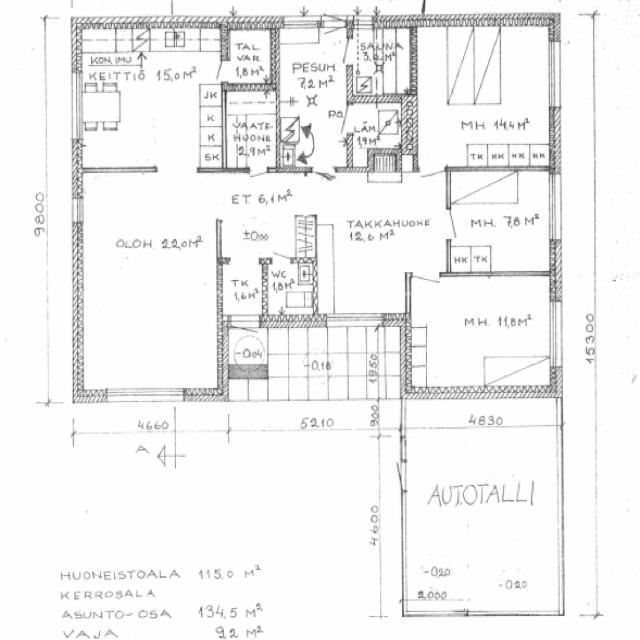door: (231, 314, 260, 361), (322, 15, 346, 57), (375, 461, 406, 490), (414, 272, 439, 307), (447, 210, 476, 240), (322, 106, 353, 134), (420, 168, 444, 202), (324, 40, 353, 65), (312, 168, 334, 200), (322, 0, 346, 29), (203, 60, 230, 82), (272, 234, 292, 263), (249, 168, 267, 195)
